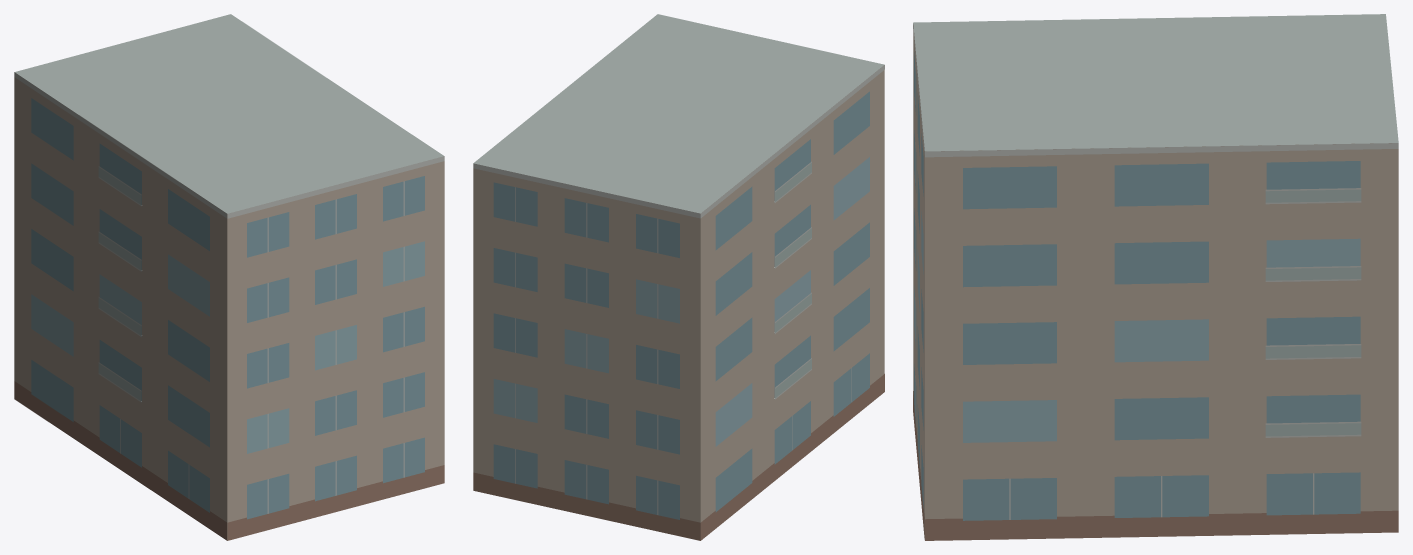
File: survey-upis-33026151.glb
3 renders of one model, left to right at view 1: azimuth 30°, elevation 25°; view 2: azimuth 150°, elevation 25°; view 3: azimuth 270°, elevation 25°, orthographic. The views are drawn at different scales.
Parts seen in each view (by area): view 1: survey-upis-33026151.tmp; view 2: survey-upis-33026151.tmp; view 3: survey-upis-33026151.tmp.
Part boxes in pixels (x1,y1,x2,y2): survey-upis-33026151.tmp: (14,14,444,540); survey-upis-33026151.tmp: (473,14,884,540); survey-upis-33026151.tmp: (913,14,1398,540).
Bounding box in the file's own units: 12.18 × 16.09 × 18.19.
